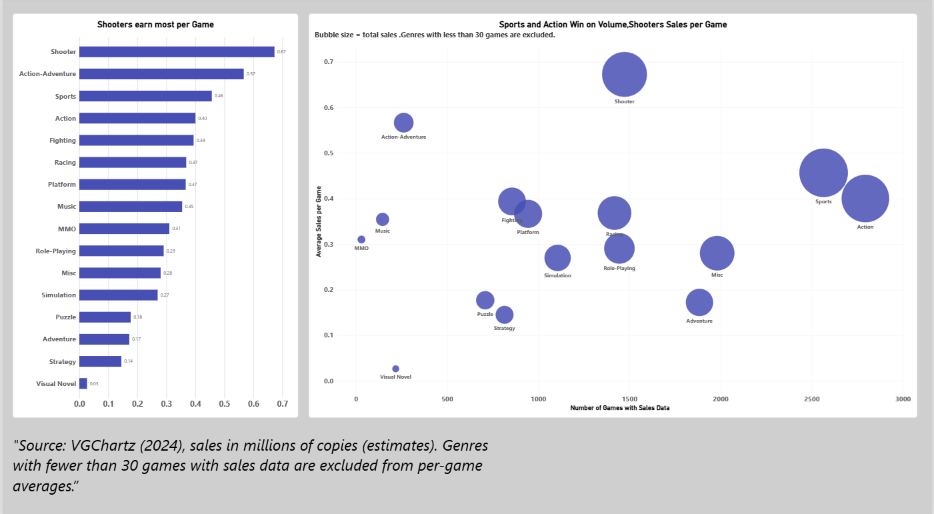

This screenshot's page, from the dashboard's own definition file:
{"tool":"powerbi","page":{"name":"genre deep dive","canvas":[2560,1440],"ordinal":2},"visuals":[{"type":"clusteredBarChart","title":"Shooters earn most per Game","fields":{"Category":["sales_analysis.genre"],"Y":["sales_analysis.Avg per Game (30+)"]},"box":[26.7,46.7,786.7,1113.3],"z":0},{"type":"scatterChart","title":"Sports and Action Win on Volume,Shooters Sales per Game","fields":{"Category":["sales_analysis.genre"],"Size":["sales_analysis.Total Sales"],"X":["sales_analysis.Games1"],"Y":["sales_analysis.Avg per Game (30+)"]},"box":[843.3,46.7,1676.7,1113.3],"z":1000},{"type":"textbox","box":[26.7,1203.3,1333.3,206.7],"z":2000}]}

Visuals, with their boxes in screenshot pixels (x1, y1, x2, y2), scaled from the page's 2560x1440 canvas onto the 934x514 screenshot:
"Shooters earn most per Game" clusteredBarChart: BBox(10, 17, 297, 414)
"Sports and Action Win on Volume,Shooters Sales per Game" scatterChart: BBox(308, 17, 919, 414)
textbox: BBox(10, 430, 496, 503)
